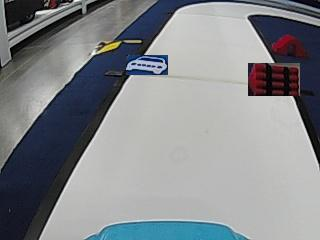bridge: (272, 34, 306, 56)
